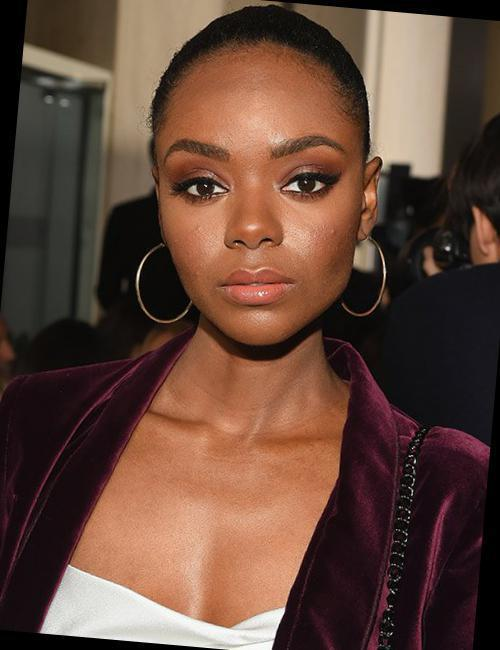Sober: (158, 67, 358, 340)
